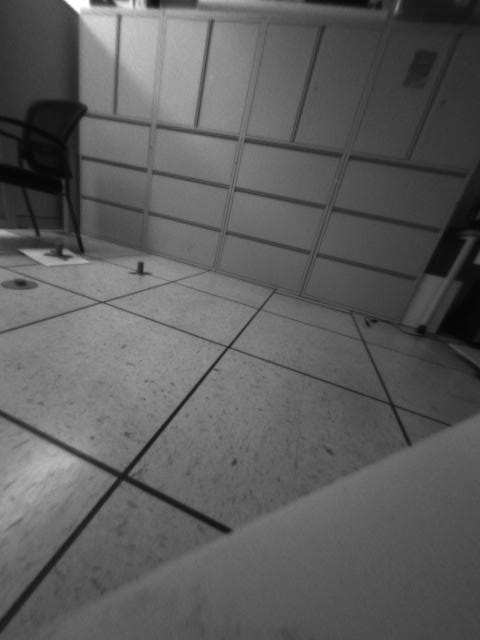X: (42, 240, 73, 263), (126, 259, 150, 277)
